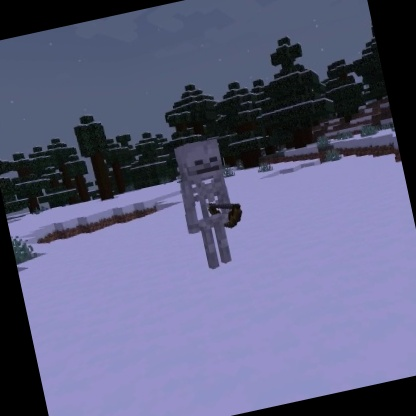skeleton: (166, 131, 256, 277)
